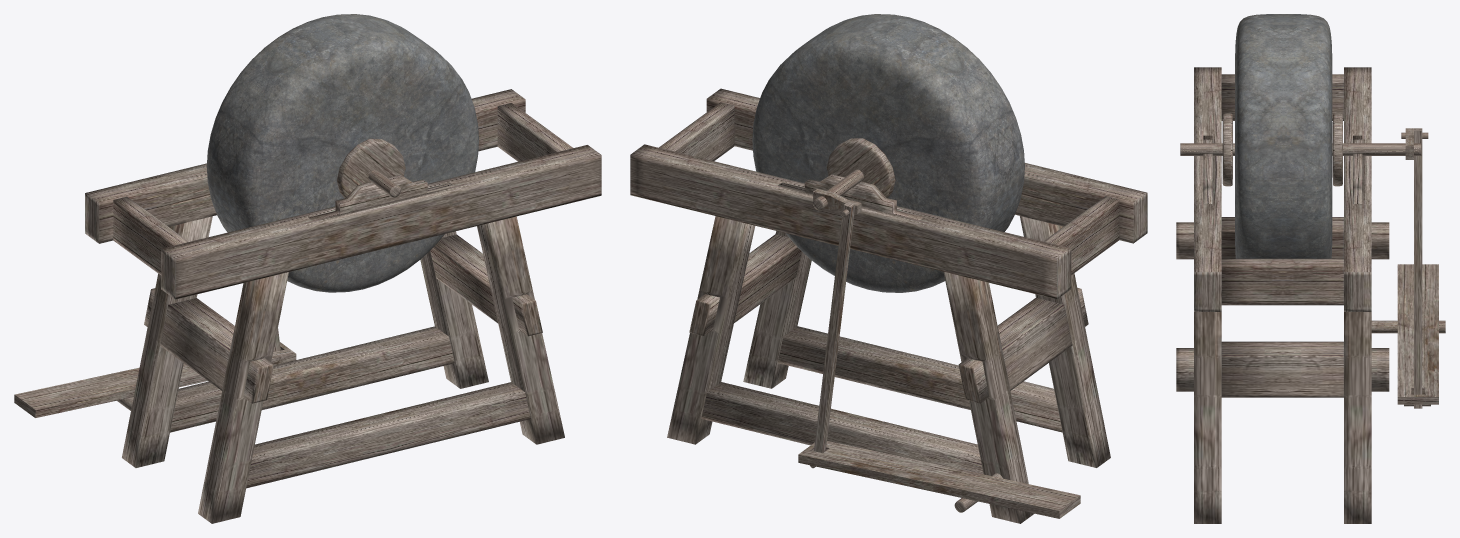
Rendered from Grindstone.fbx.
The picture shows the model from 3 angles, left to right: view 1: azimuth 30°, elevation 25°; view 2: azimuth 150°, elevation 25°; view 3: azimuth 270°, elevation 25°; orthographic projection.
Visible parts, largest first — view 1: Grindstone; view 2: Grindstone; view 3: Grindstone.
Boxes of the visible parts, x1,y1,x2,y2 form: Grindstone: [14, 14, 601, 523]; Grindstone: [630, 14, 1147, 523]; Grindstone: [1176, 14, 1445, 523].
Size of the model in its own units: 140 by 121 by 71.74.
